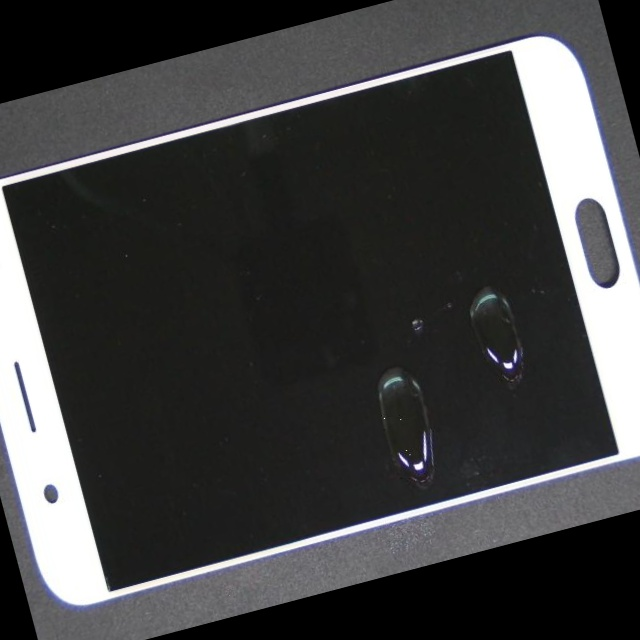oil: (172, 73, 640, 557), (129, 172, 618, 620), (160, 120, 640, 554)
